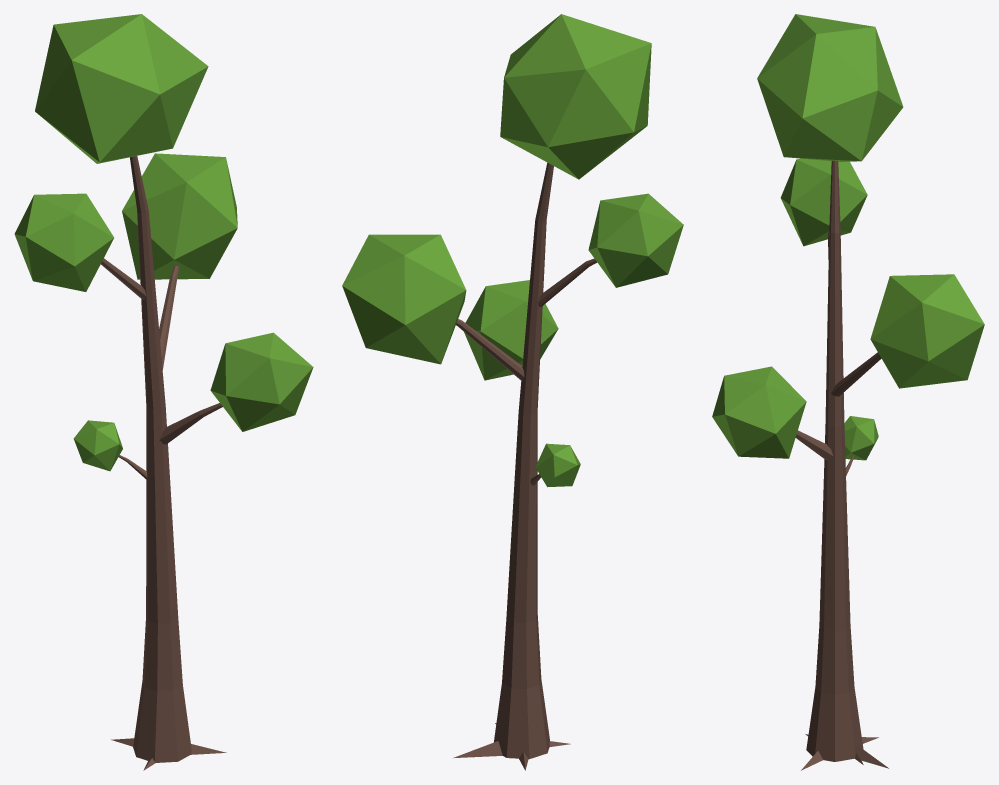
Rendered from SpringTree_05.fbx.
3 views of the same model, side by side, from view 1: azimuth 30°, elevation 25°; view 2: azimuth 150°, elevation 25°; view 3: azimuth 270°, elevation 25° (orthographic). The views are drawn at different scales.
Visible parts, largest first — view 1: SpringTree_05; view 2: SpringTree_05; view 3: SpringTree_05.
Part boxes in pixels (box(x1,y1,x2,y2)): SpringTree_05: box(14, 14, 313, 770); SpringTree_05: box(342, 14, 683, 770); SpringTree_05: box(712, 14, 984, 770).
Size of the model in its own units: 426 by 1108 by 390.
